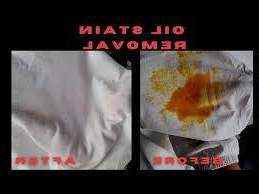oil: (151, 67, 229, 131), (146, 53, 201, 105)
